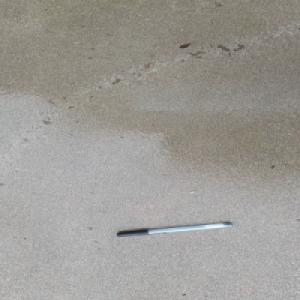Pen: (115, 221, 233, 237)
